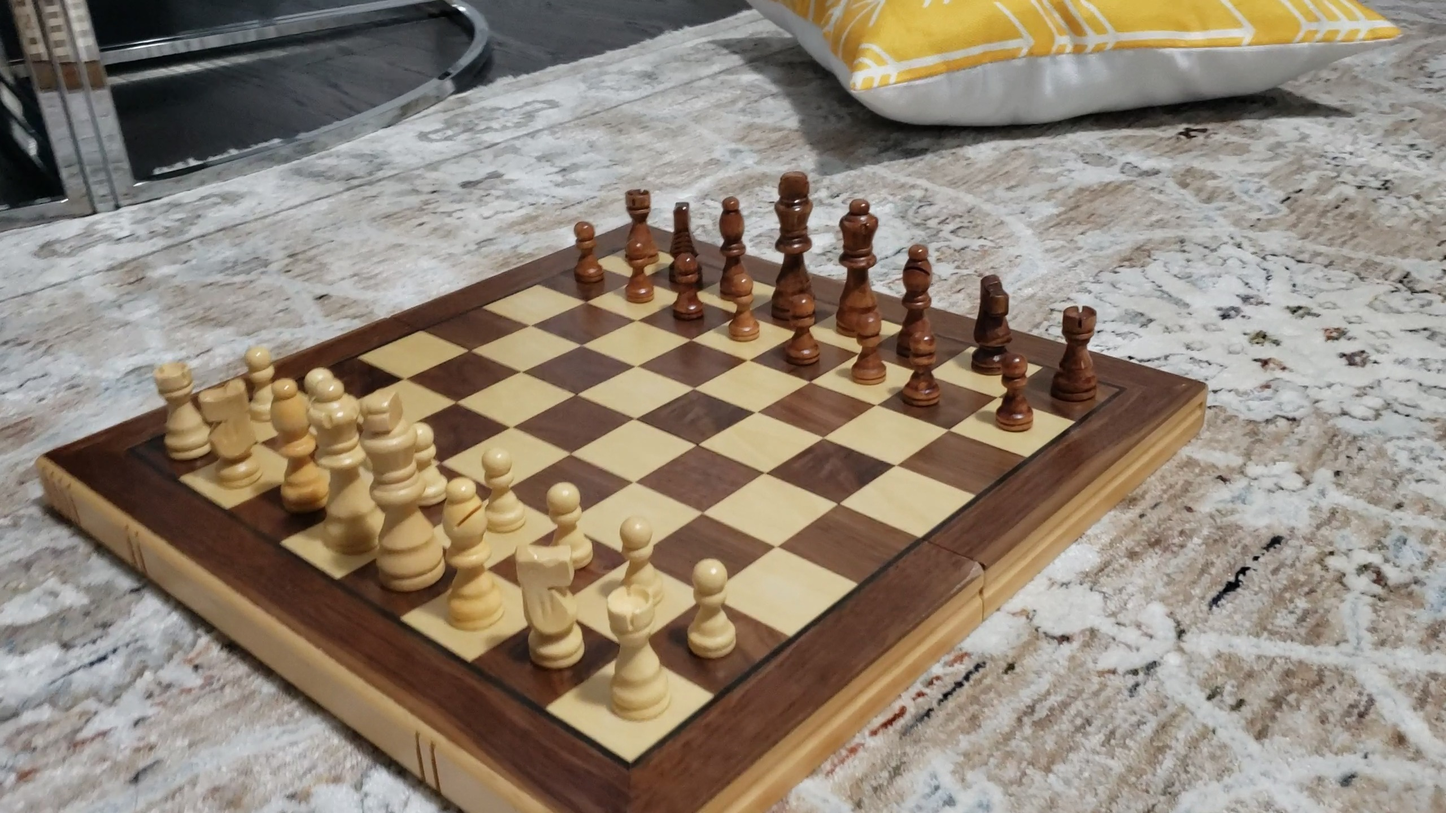black-bishop: (898, 240, 935, 357), (715, 192, 751, 303)
black-king: (769, 166, 815, 321)
black-knight: (969, 272, 1013, 371), (664, 198, 703, 267)
black-pawn: (846, 300, 890, 388), (899, 331, 942, 409), (781, 289, 820, 369), (995, 354, 1033, 433), (667, 250, 706, 325), (619, 235, 658, 308), (725, 274, 760, 343), (570, 218, 604, 289)
black-queen: (835, 193, 882, 338)
black-rook: (1051, 302, 1100, 412), (622, 186, 661, 268)
white-bishop: (435, 476, 508, 634), (270, 377, 329, 517)
white-king: (358, 386, 452, 597)
white-knight: (515, 543, 588, 673), (195, 378, 270, 494)
white-pawn: (682, 554, 743, 664), (544, 478, 595, 574), (478, 442, 530, 536), (616, 512, 664, 610)
white-queen: (299, 365, 374, 560)
white-rook: (592, 580, 682, 724), (147, 352, 215, 460)
